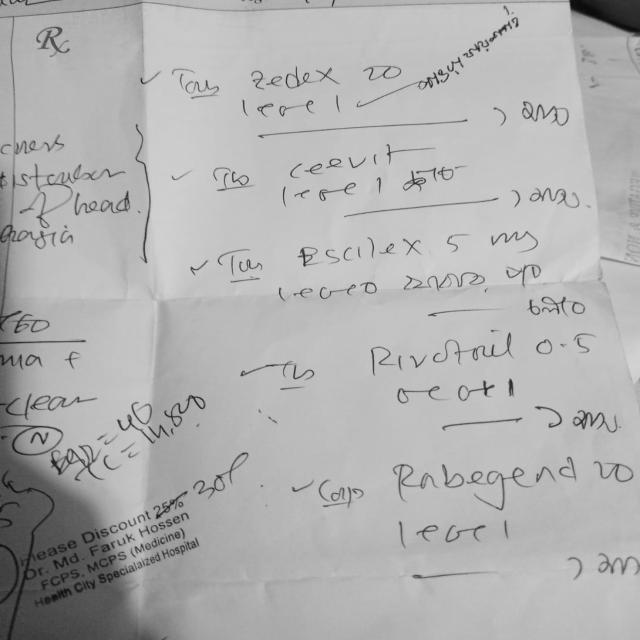medicine: (381, 446, 582, 502), (362, 331, 523, 374), (283, 230, 435, 270), (286, 144, 406, 180), (238, 62, 344, 94)
